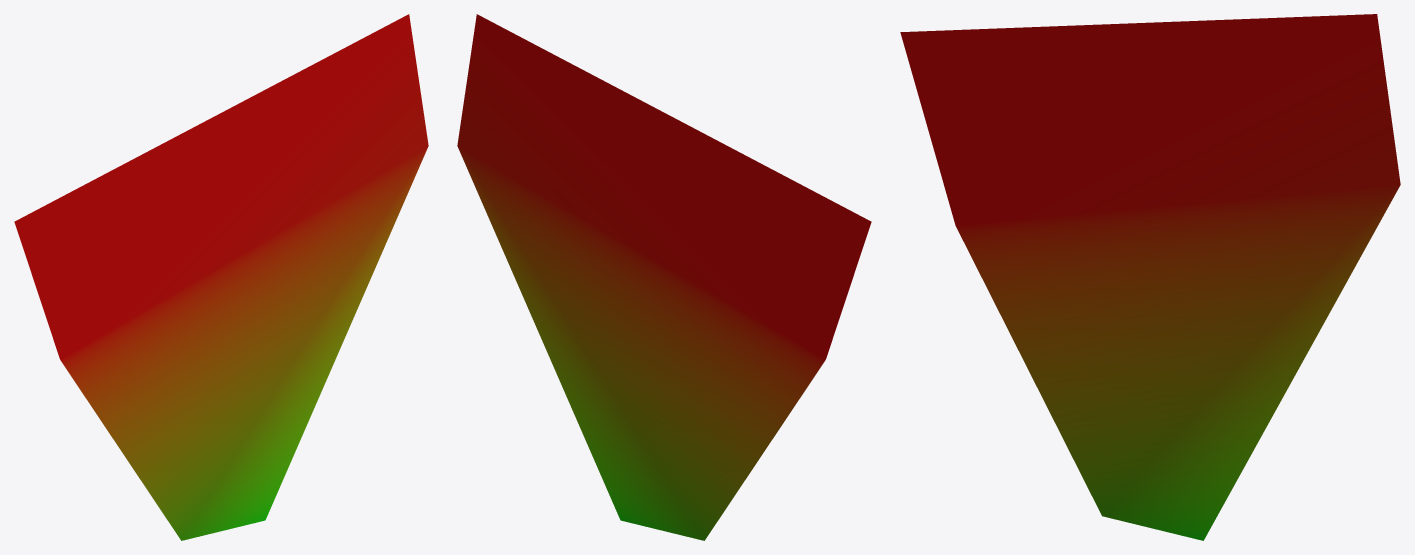
File: Cane Palm_LOD3_Var5_siBmK.fbx
The picture shows the model from 3 angles, left to right: view 1: azimuth 30°, elevation 25°; view 2: azimuth 150°, elevation 25°; view 3: azimuth 330°, elevation 25°; orthographic projection. The views are drawn at different scales.
Parts seen in each view (by area): view 1: _910c_Var5_LOD3; view 2: _910c_Var5_LOD3; view 3: _910c_Var5_LOD3.
Boxes of the visible parts, x1,y1,x2,y2 form: _910c_Var5_LOD3: (14, 14, 428, 540); _910c_Var5_LOD3: (457, 14, 871, 540); _910c_Var5_LOD3: (900, 14, 1400, 540).
Size of the model in its own units: 16.97 by 18.45 by 3.46e-06.
